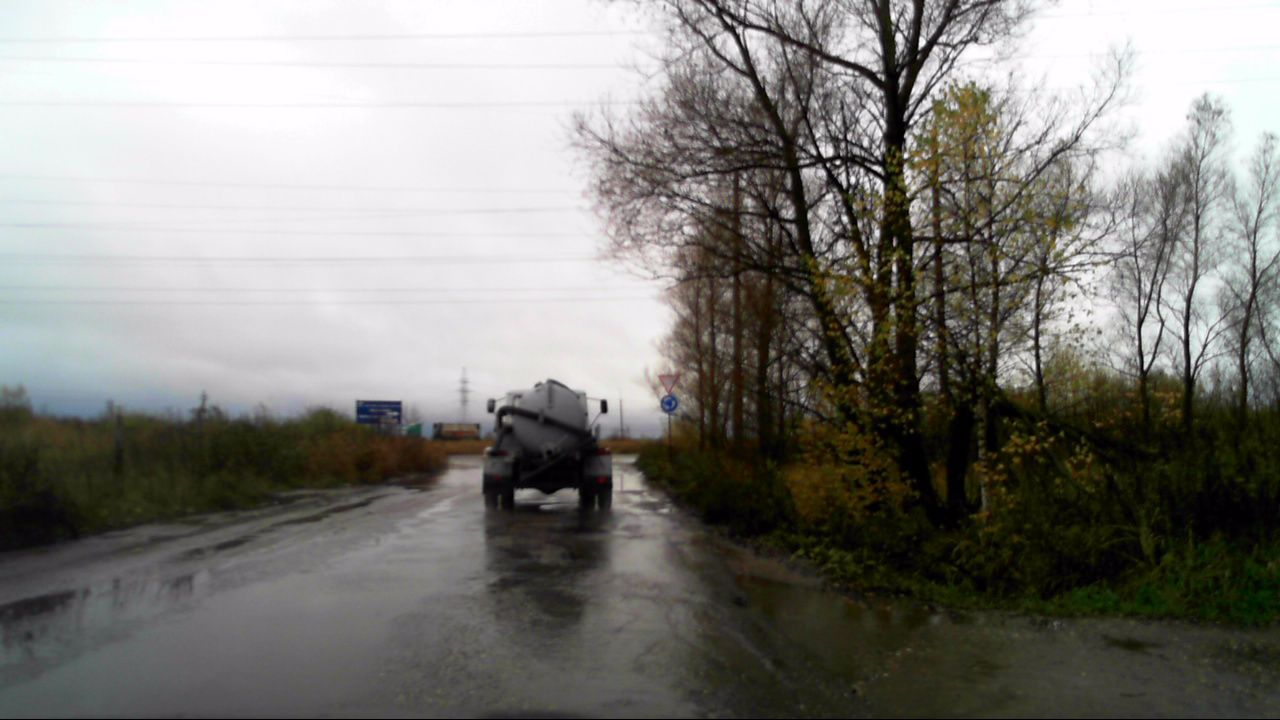Round-About: (658, 394, 680, 416)
